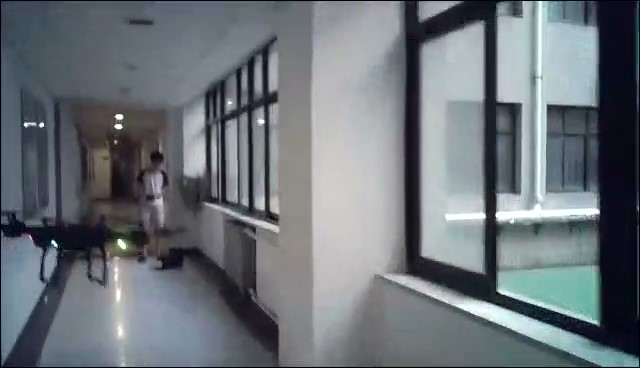drone: (1, 209, 190, 290)
person: (135, 149, 173, 266)
